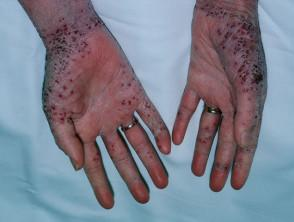Eczema: (38, 31, 74, 57), (196, 0, 233, 21), (236, 31, 258, 62), (41, 99, 68, 124), (37, 48, 72, 67), (56, 21, 85, 43), (235, 9, 259, 35), (211, 153, 232, 182), (72, 35, 93, 64), (250, 106, 269, 138), (135, 97, 160, 121), (246, 63, 268, 89), (231, 152, 252, 179), (217, 27, 237, 54), (82, 11, 106, 33), (149, 119, 166, 150), (58, 79, 78, 105), (231, 82, 256, 102), (90, 143, 108, 169), (117, 92, 140, 112), (212, 15, 232, 37), (120, 72, 138, 96), (40, 80, 56, 107), (102, 137, 119, 162), (235, 60, 250, 88), (200, 120, 215, 148), (139, 143, 156, 167), (42, 64, 65, 81), (237, 141, 254, 164), (172, 105, 188, 124), (188, 37, 200, 57)
